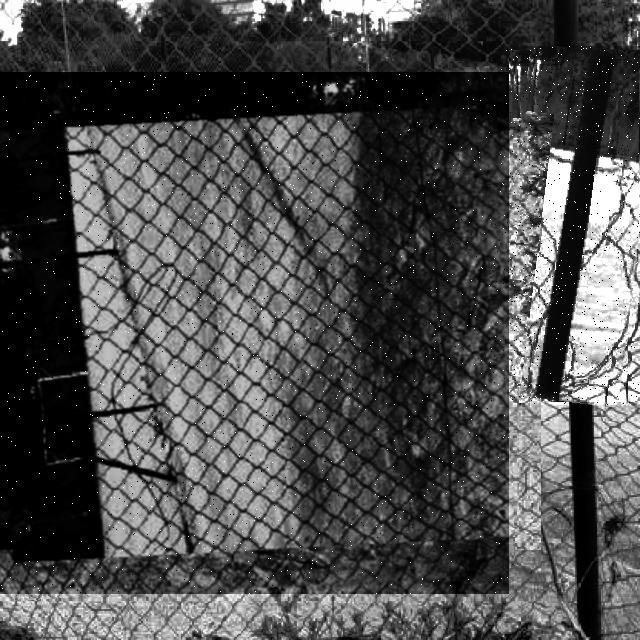anomaly-fence: (498, 46, 640, 405)
fences: (0, 72, 509, 594)
